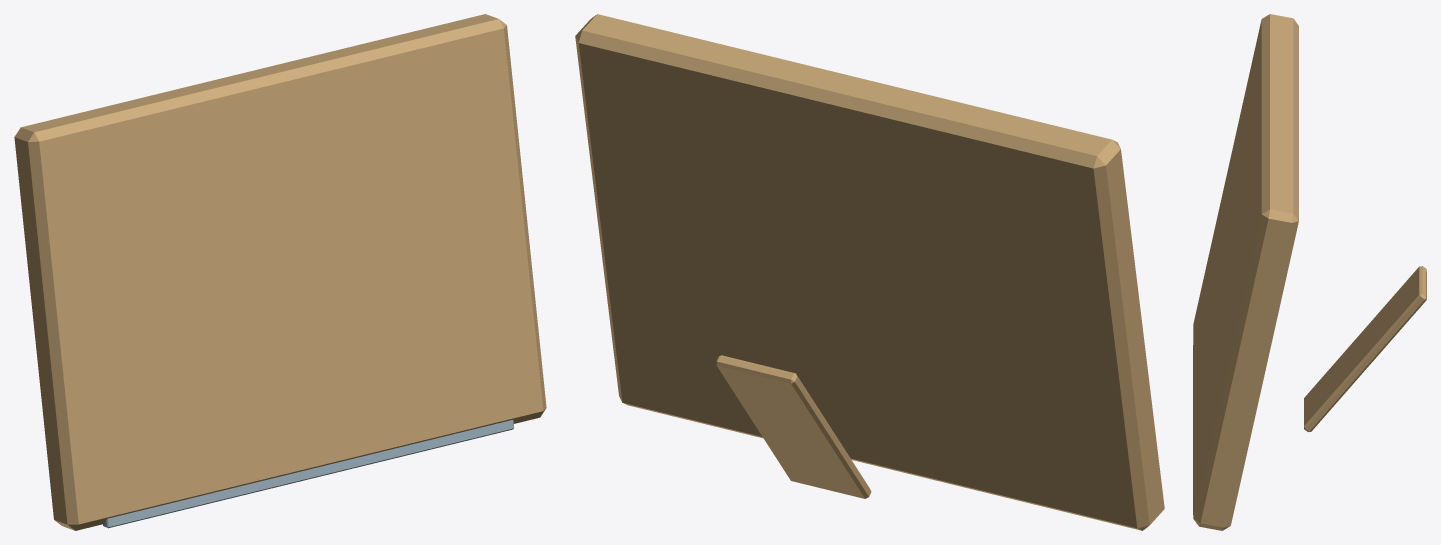
File: i_tframe_1.glb
3 views of the same model, side by side, from view 1: azimuth 30°, elevation 25°; view 2: azimuth 150°, elevation 25°; view 3: azimuth 270°, elevation 25° (orthographic). The views are drawn at different scales.
Visible parts, largest first — view 1: o, o.001; view 2: o, o.002; view 3: o, o.002.
Part boxes in pixels (x1,y1,x2,y2): o: [14, 14, 546, 530]; o.001: [103, 420, 514, 528]; o: [575, 14, 1164, 530]; o.002: [715, 355, 871, 498]; o: [1193, 14, 1298, 530]; o.002: [1304, 266, 1426, 432].
Bounding box in the file's own units: 0.2 × 0.149 × 0.0981.
